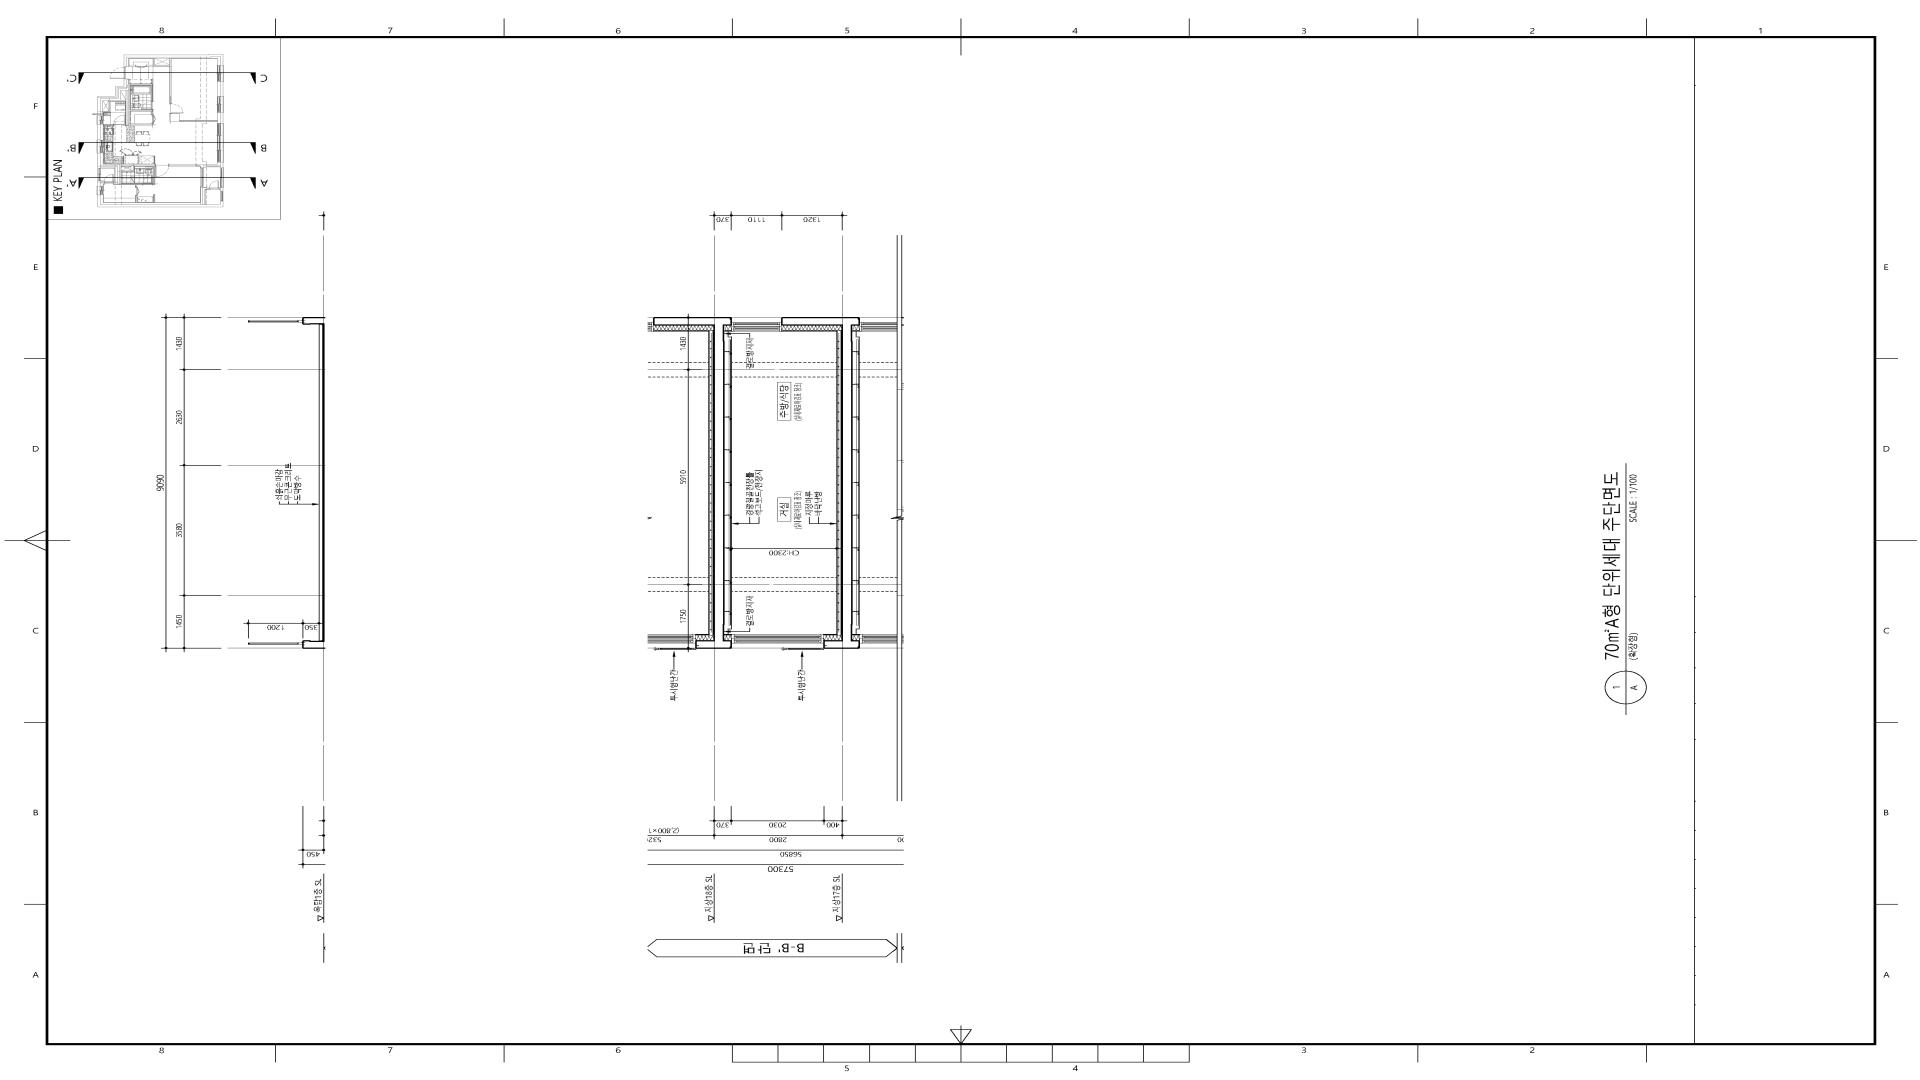wall: (781, 316, 852, 649), (713, 316, 732, 649)
window: (732, 634, 823, 649), (732, 318, 781, 332)
